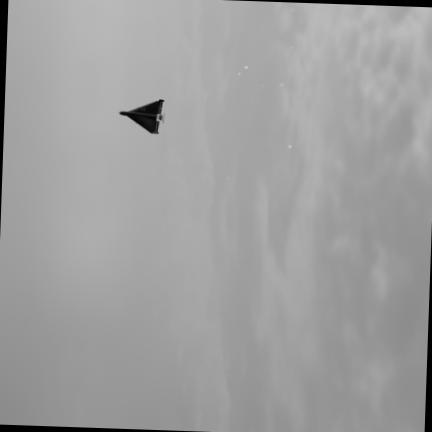Shahed: (120, 101, 163, 134)
